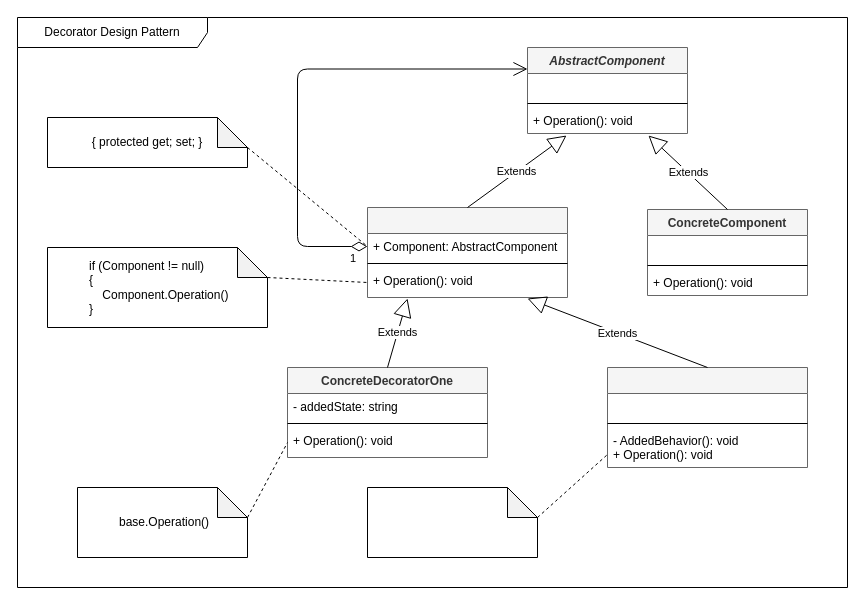
Some shapes in this 865 by 605 pixel diagram are drawn without their labels. Each missing label, with the box of its shape:
AbstractDecorator: (366, 206, 568, 298)
base.Operation() AddedBehavior(): (366, 486, 538, 558)
ConcreteDecoratorTwo: (606, 366, 808, 468)
